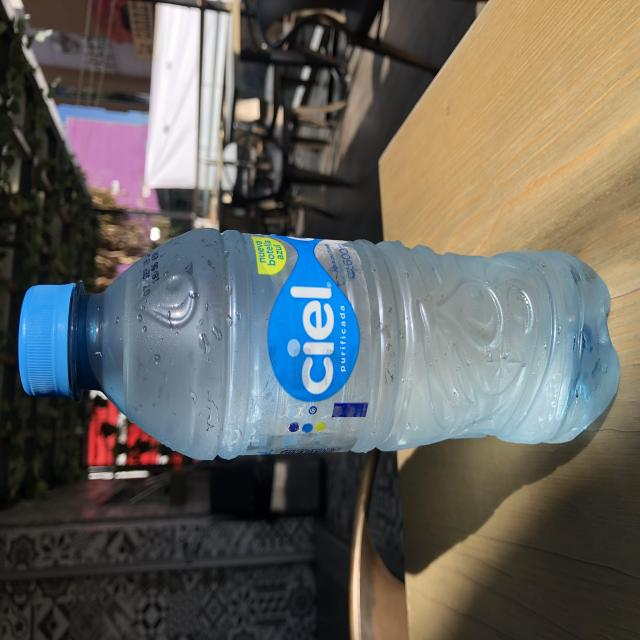bottle: (13, 210, 630, 496)
